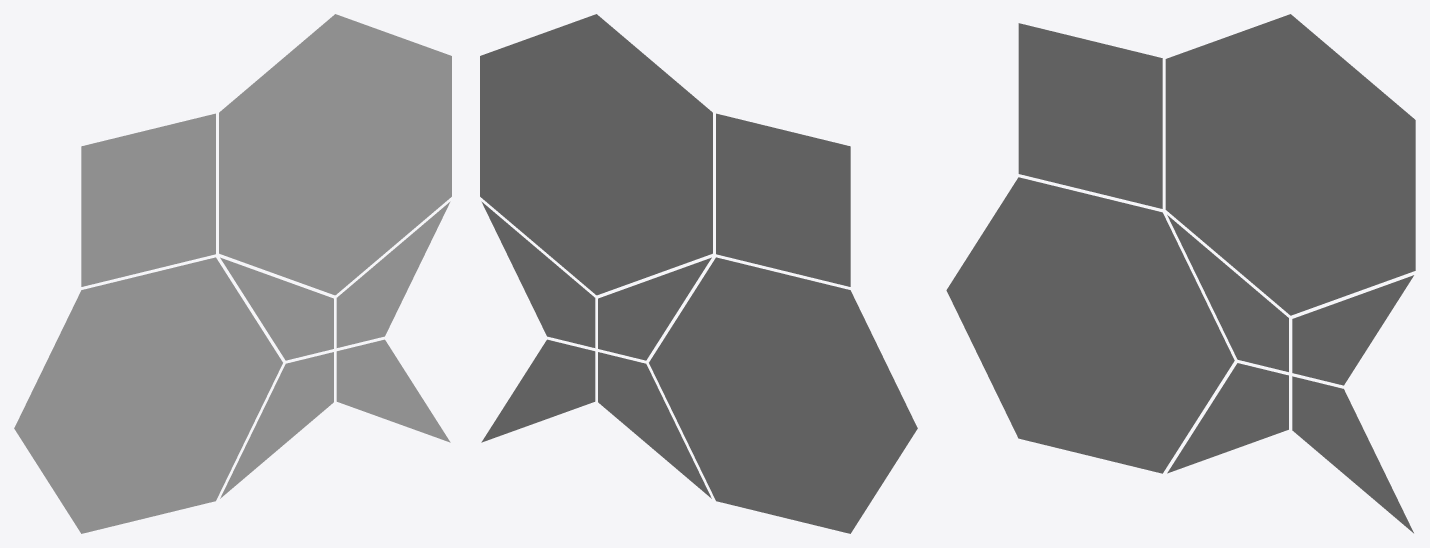
The model's file is galileo.gltf.
3 renders of one model, left to right at view 1: azimuth 30°, elevation 25°; view 2: azimuth 150°, elevation 25°; view 3: azimuth 330°, elevation 25°, orthographic. The views are drawn at different scales.
Visible parts, largest first — view 1: galileo; view 2: galileo; view 3: galileo.
Part boxes in pixels (x1=…): galileo: x1=14, y1=14, x2=451, y2=533; galileo: x1=480, y1=14, x2=917, y2=533; galileo: x1=946, y1=14, x2=1415, y2=533.
Size of the model in its own units: 9.39 by 9.39 by 0.
7 materials, 7 textured.
